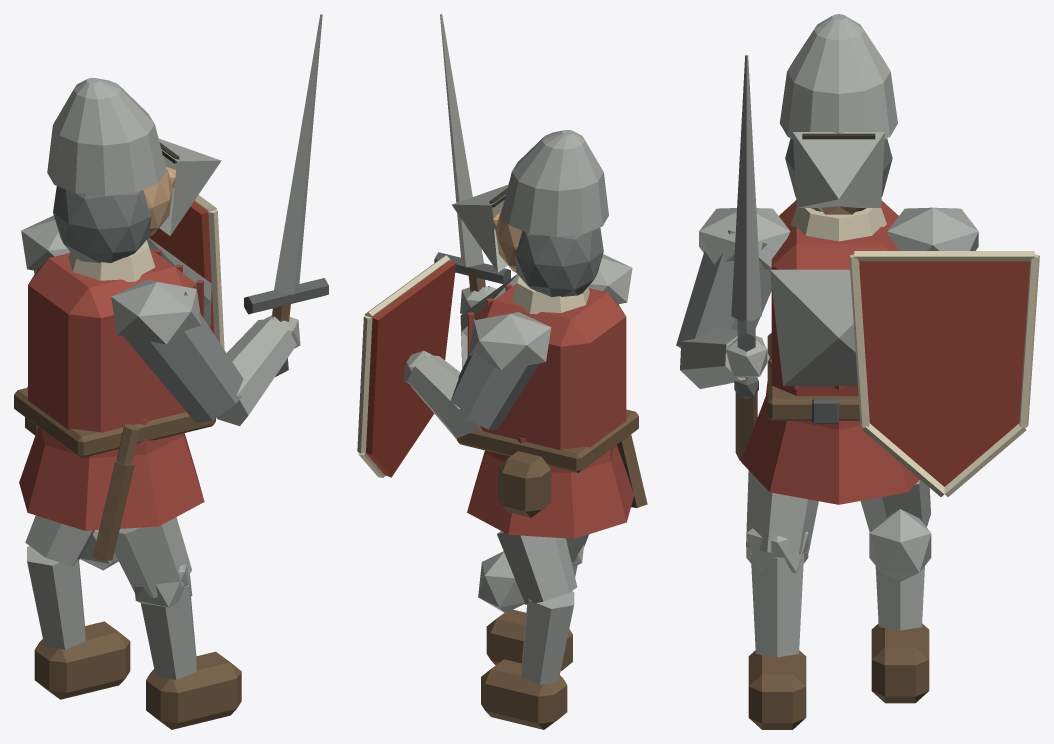
Rendered from infantry_dismounted.glb.
3 views of the same model, side by side, from view 1: azimuth 30°, elevation 25°; view 2: azimuth 150°, elevation 25°; view 3: azimuth 270°, elevation 25° (orthographic). The views are drawn at different scales.
Visible parts, largest first — view 1: infantry_dismounted_steel, infantry_dismounted_team_cloth, infantry_dismounted_leather, infantry_dismounted_mail, infantry_dismounted_linen, infantry_dismounted_team_paint, infantry_dismounted_iron, infantry_dismounted_skin, infantry_dismounted_oak_dark; view 2: infantry_dismounted_steel, infantry_dismounted_team_cloth, infantry_dismounted_leather, infantry_dismounted_team_paint, infantry_dismounted_mail, infantry_dismounted_linen, infantry_dismounted_skin, infantry_dismounted_iron; view 3: infantry_dismounted_steel, infantry_dismounted_team_paint, infantry_dismounted_team_cloth, infantry_dismounted_leather, infantry_dismounted_linen, infantry_dismounted_mail, infantry_dismounted_iron.
Part boxes in pixels (box(x1,y1,x2,y2)): infantry_dismounted_steel: box(21, 14, 322, 679); infantry_dismounted_team_cloth: box(19, 248, 204, 530); infantry_dismounted_leather: box(14, 304, 290, 729); infantry_dismounted_mail: box(34, 186, 243, 423); infantry_dismounted_linen: box(68, 195, 224, 349); infantry_dismounted_team_paint: box(149, 201, 214, 333); infantry_dismounted_iron: box(244, 278, 328, 376); infantry_dismounted_skin: box(143, 165, 175, 235); infantry_dismounted_oak_dark: box(116, 424, 139, 465); infantry_dismounted_steel: box(403, 14, 632, 684); infantry_dismounted_team_cloth: box(467, 283, 634, 538); infantry_dismounted_leather: box(456, 268, 647, 729); infantry_dismounted_team_paint: box(365, 261, 456, 477); infantry_dismounted_mail: box(448, 227, 603, 429); infantry_dismounted_linen: box(357, 255, 589, 477); infantry_dismounted_skin: box(492, 209, 522, 272); infantry_dismounted_iron: box(434, 252, 510, 284); infantry_dismounted_steel: box(680, 14, 978, 657); infantry_dismounted_team_paint: box(859, 261, 1029, 486); infantry_dismounted_team_cloth: box(741, 200, 919, 504); infantry_dismounted_leather: box(735, 333, 929, 729); infantry_dismounted_linen: box(791, 208, 1039, 496); infantry_dismounted_mail: box(676, 138, 892, 348); infantry_dismounted_iron: box(734, 319, 838, 423).
Bounding box in the file's own units: 0.795 × 2.06 × 0.9472.
